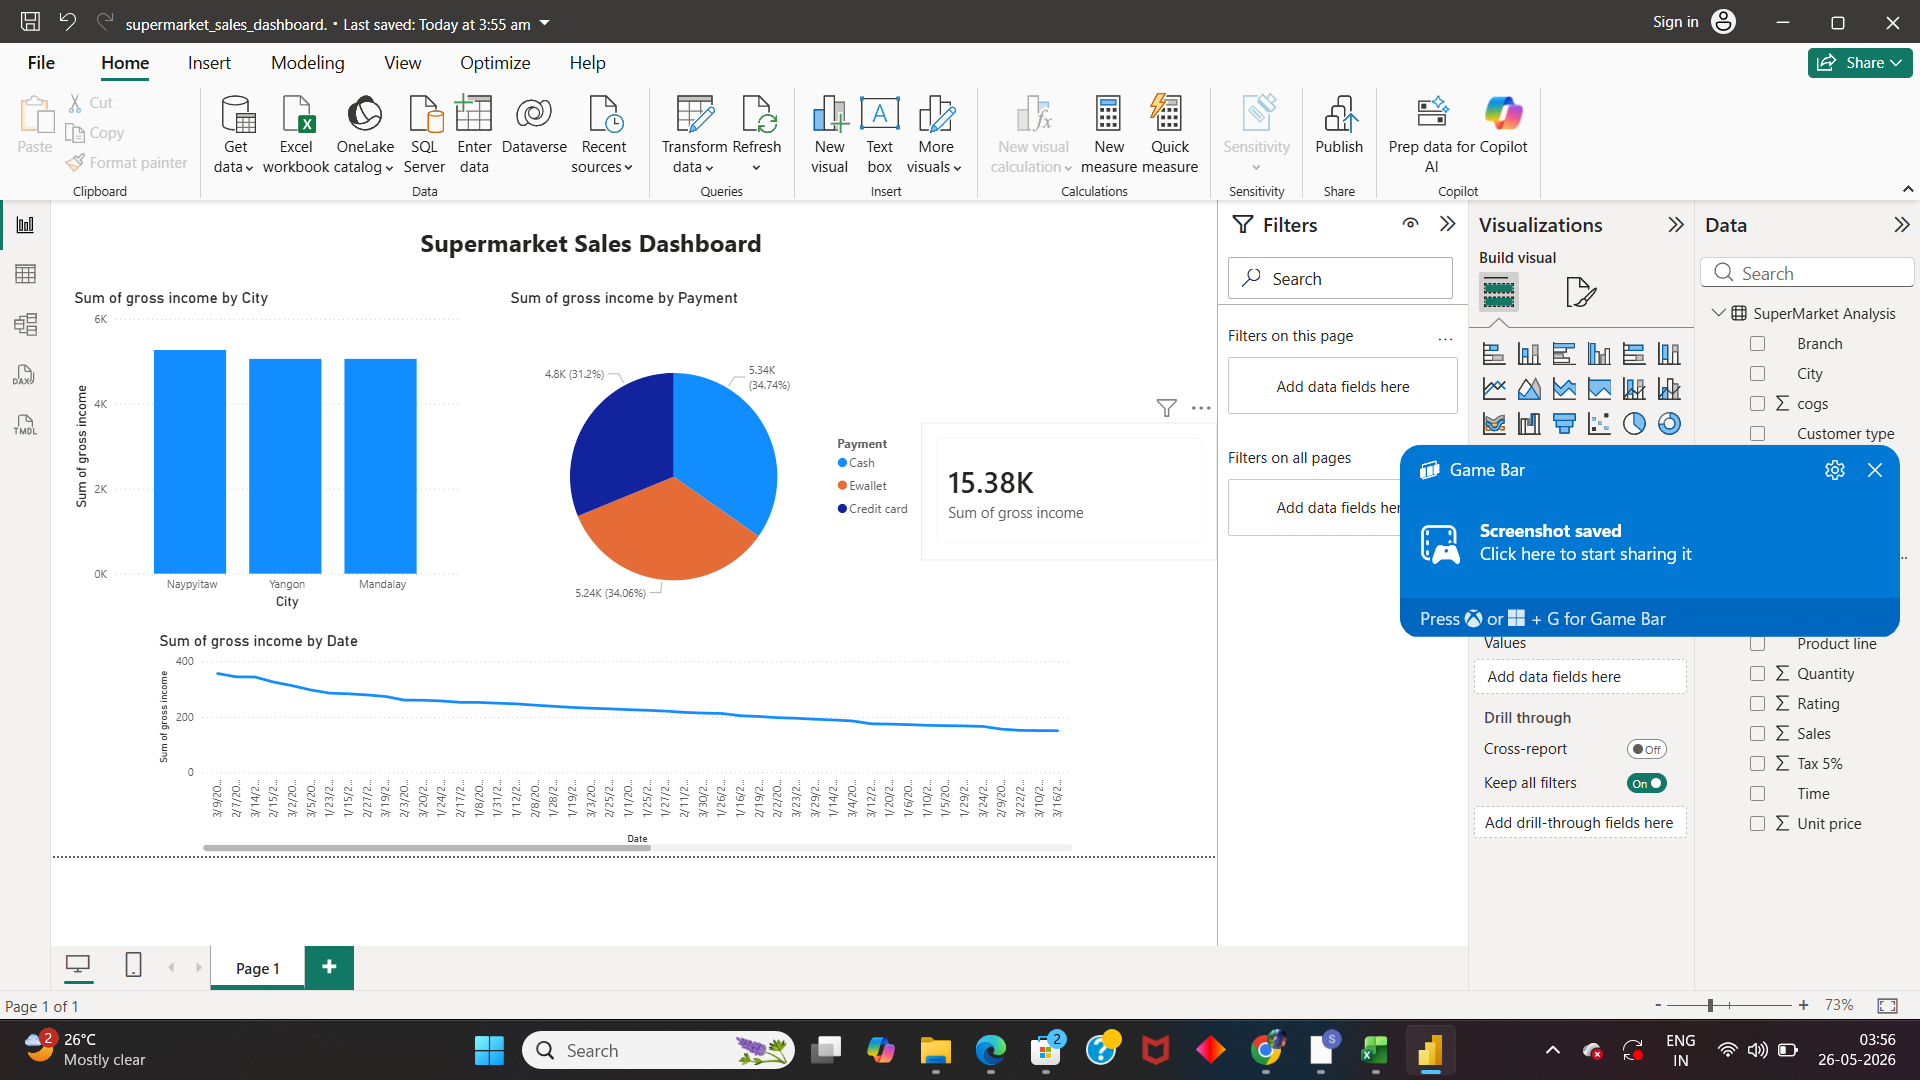

Layout of this report page (visuals, bound fields, positions):
{"tool":"powerbi","page":{"name":"Page 1","canvas":[1280,720],"ordinal":0},"visuals":[{"type":"columnChart","fields":{"Category":["SuperMarket Analysis.City"],"Y":["Sum(SuperMarket Analysis.gross income)"]},"box":[20.6,97.4,432.2,356.8],"z":0},{"type":"pieChart","fields":{"Category":["SuperMarket Analysis.Payment"],"Y":["Sum(SuperMarket Analysis.gross income)"]},"box":[499.5,97.4,455.6,393.8],"z":1000},{"type":"cardVisual","fields":{"Data":["Sum(SuperMarket Analysis.gross income)"]},"box":[955.1,244.3,325.2,150.9],"z":2000},{"type":"lineChart","fields":{"Category":["SuperMarket Analysis.Date"],"Y":["Sum(SuperMarket Analysis.gross income)"]},"box":[113.9,473.4,1012.7,247],"z":3000},{"type":"textbox","box":[400.7,23.3,708.1,52.1],"z":6000}]}

Visuals, with their boxes on the page's 1280x720 design canvas (x1, y1, x2, y2). These are canvas units, not pixel positions in the 1920x1080 screenshot, which may show the page scaled, cropped or inside an application window:
columnChart - SuperMarket Analysis.City x Sum(SuperMarket Analysis.gross income): <box>21,97,453,454</box>
pieChart - SuperMarket Analysis.Payment x Sum(SuperMarket Analysis.gross income): <box>500,97,955,491</box>
cardVisual - Sum(SuperMarket Analysis.gross income): <box>955,244,1280,395</box>
lineChart - SuperMarket Analysis.Date x Sum(SuperMarket Analysis.gross income): <box>114,473,1127,720</box>
textbox: <box>401,23,1109,75</box>
